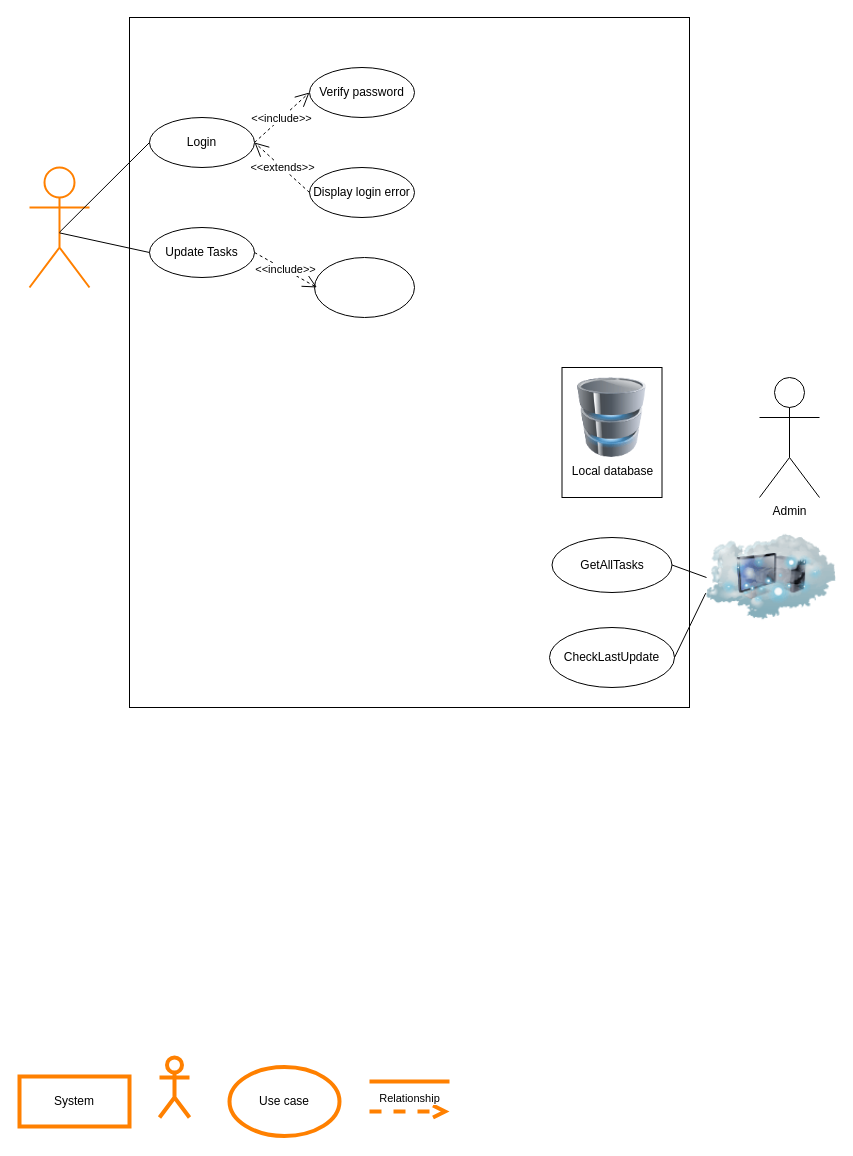
Image size: 853x1156. Some labels were removed from this diagram. Each missing label, with the box of its shape:
Actor: (157, 1055, 191, 1119)
Application: (128, 16, 690, 708)
Display New Tasks: (314, 256, 414, 318)
Server: (706, 507, 836, 647)
User: (28, 166, 90, 288)
